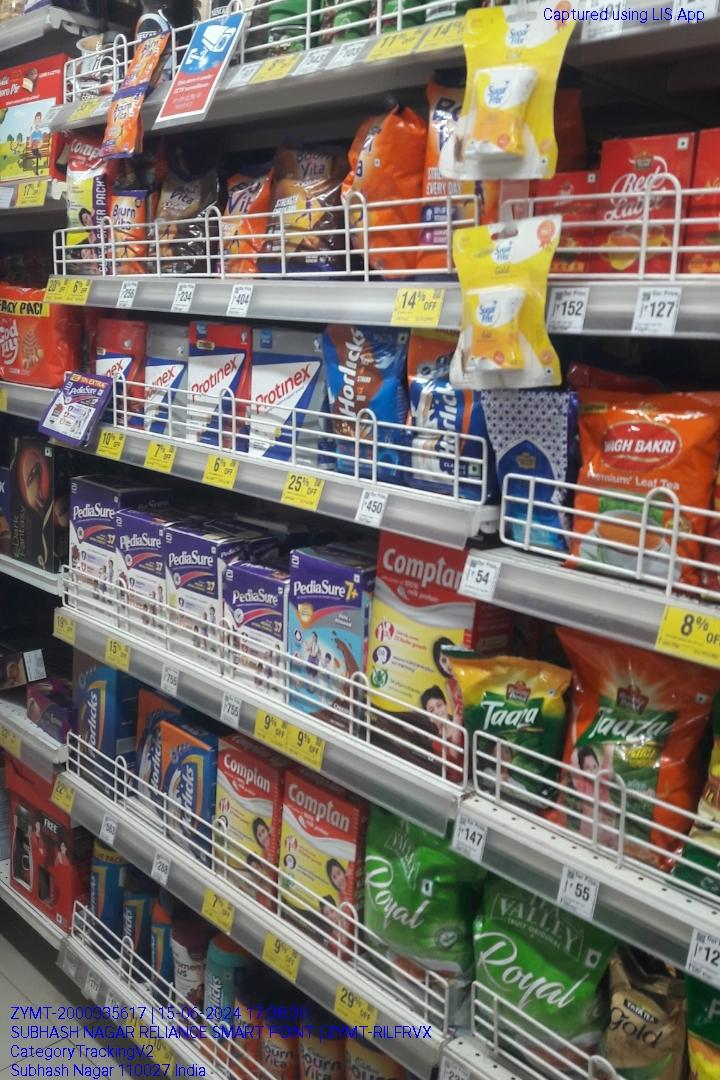PEDIASURE_7_PLUS_CHOCOLATE_400_G_PACK: (285, 546, 365, 727)
PROTINEX_CHOCOLATE_400_G_JAR: (106, 314, 137, 426)
PROTINEX_ORIGINAL_400_G_JAR: (140, 328, 189, 436)
